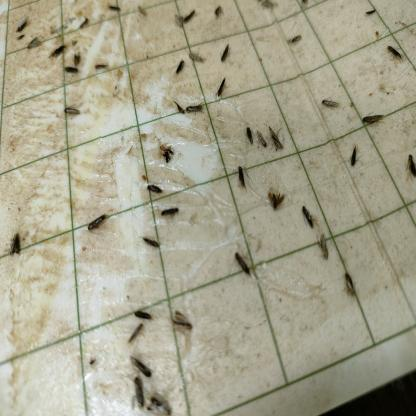prays_oleae: (166, 309, 204, 342), (234, 246, 262, 290), (58, 102, 96, 132), (342, 148, 374, 182), (358, 106, 390, 134), (314, 84, 338, 120), (82, 211, 111, 240), (268, 119, 290, 157), (5, 228, 25, 269), (402, 146, 416, 198), (149, 386, 176, 412), (332, 277, 365, 298), (127, 354, 155, 378), (184, 48, 210, 73), (296, 207, 319, 234), (209, 6, 231, 34), (130, 372, 145, 412), (135, 231, 166, 250), (125, 322, 148, 347), (218, 41, 240, 66), (145, 174, 171, 195), (386, 43, 406, 70), (91, 58, 116, 78), (256, 122, 271, 155), (237, 125, 256, 151), (314, 230, 329, 262), (212, 78, 231, 102), (157, 210, 192, 223), (234, 166, 250, 194), (26, 36, 46, 58), (283, 28, 308, 45), (264, 190, 282, 212), (170, 8, 184, 34), (62, 63, 81, 82), (132, 5, 152, 23), (135, 306, 154, 324), (52, 40, 67, 62), (185, 102, 206, 112), (174, 58, 186, 75)
